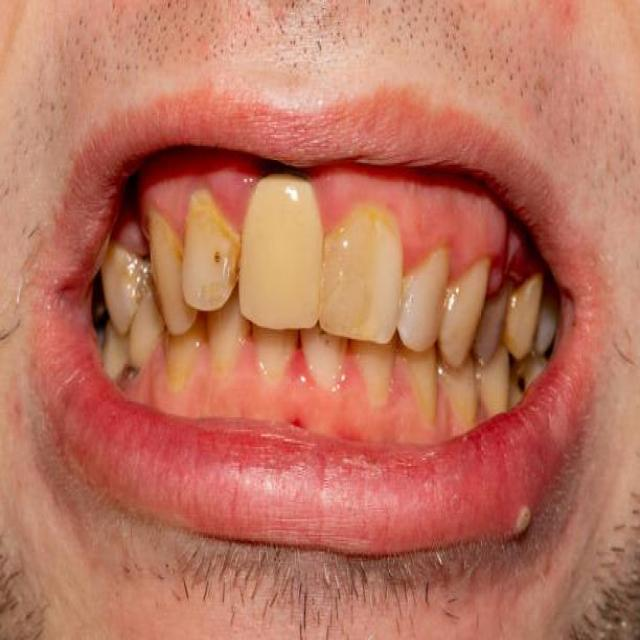caries: (118, 344, 146, 396)
